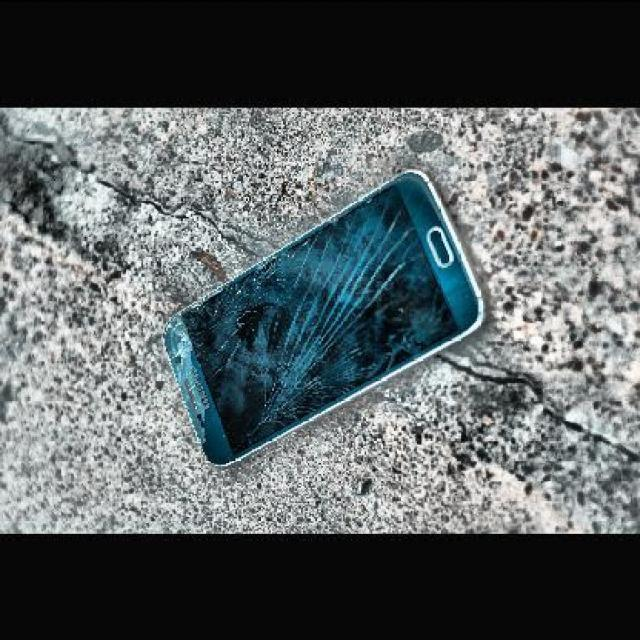Crack: (202, 288, 377, 430), (258, 231, 439, 351), (162, 315, 282, 459)
